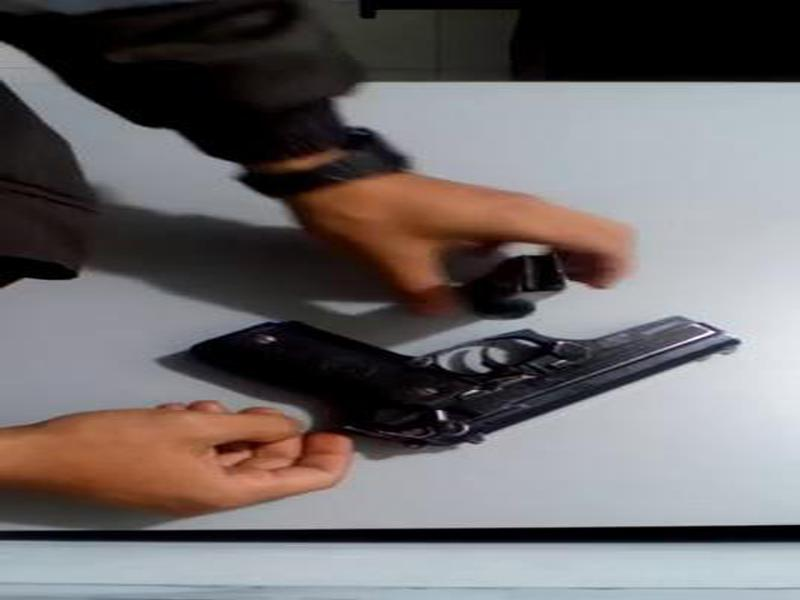Pistola: (160, 300, 754, 476)
